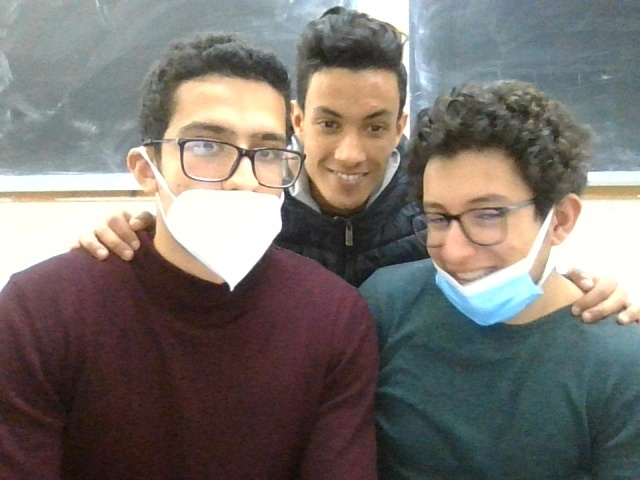mask_weared_incorrect: (126, 45, 298, 294)
without_mask: (284, 2, 406, 210)
